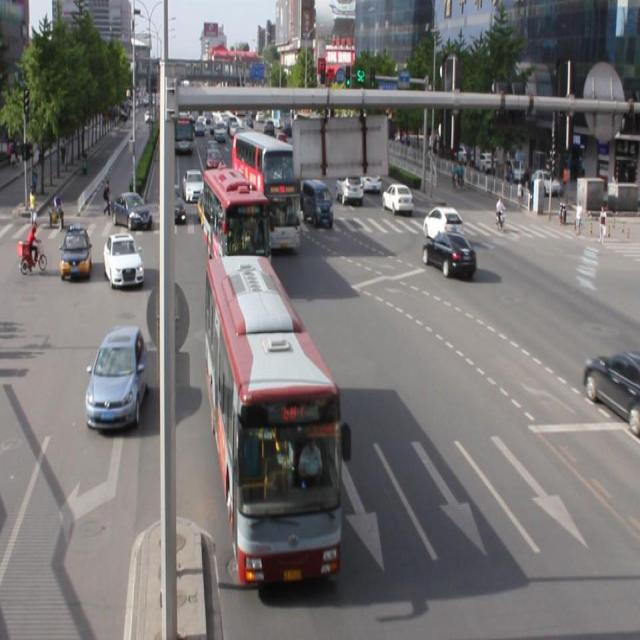car: (85, 324, 149, 429), (582, 350, 640, 436), (421, 232, 476, 276), (104, 231, 144, 287), (423, 203, 463, 241)
van: (206, 254, 341, 580), (202, 166, 271, 276)
